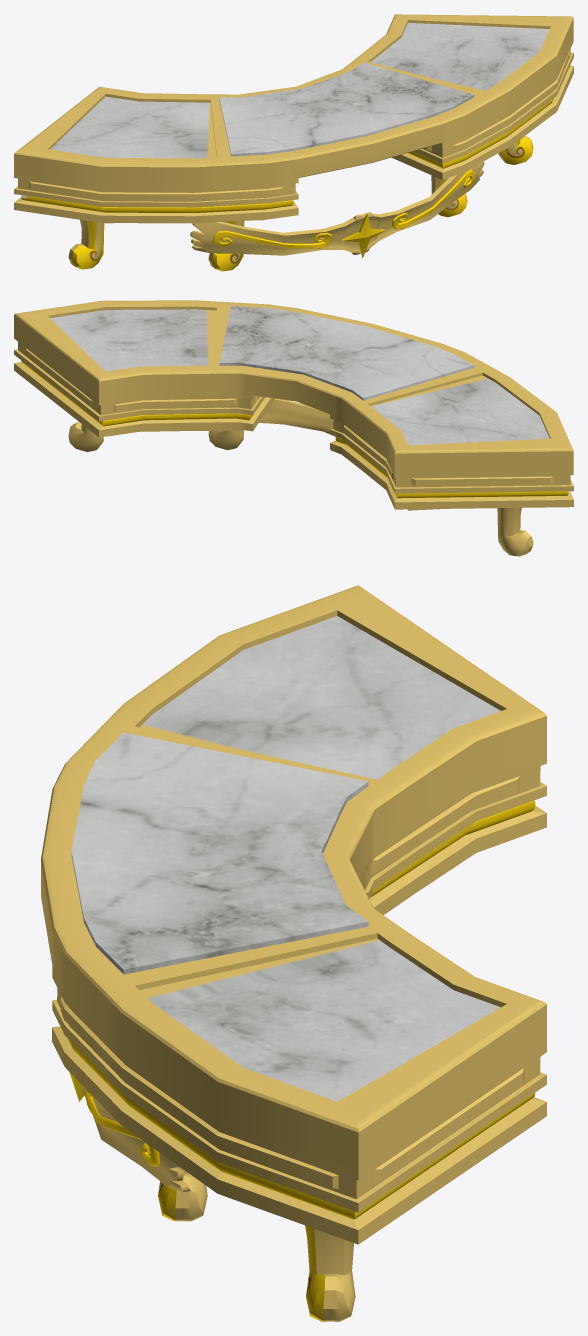
Rendered from escritorio.fbx.
3 views of the same model, one above another, from view 1: azimuth 30°, elevation 25°; view 2: azimuth 150°, elevation 25°; view 3: azimuth 270°, elevation 25° (orthographic). The views are drawn at different scales.
Parts seen in each view (by area): view 1: escritorio_seccionSuperior, escritorio_alas, escritorio_patas, escritorio_detalle, escritorio_estrella; view 2: escritorio_seccionSuperior, escritorio_patas, escritorio_alas; view 3: escritorio_seccionSuperior, escritorio_patas, escritorio_alas.
Part boxes in pixels (box(x1,y1,x2,y2)): escritorio_seccionSuperior: box(14, 14, 573, 223); escritorio_alas: box(190, 161, 484, 255); escritorio_patas: box(68, 136, 533, 271); escritorio_detalle: box(213, 169, 474, 248); escritorio_estrella: box(342, 214, 385, 258); escritorio_seccionSuperior: box(14, 300, 573, 510); escritorio_patas: box(68, 422, 533, 556); escritorio_alas: box(259, 398, 335, 436); escritorio_seccionSuperior: box(41, 585, 546, 1244); escritorio_patas: box(158, 1167, 355, 1321); escritorio_alas: box(83, 1086, 190, 1191).
Size of the model in its own units: 209 by 45.91 by 81.86.
1 material, 1 textured.
